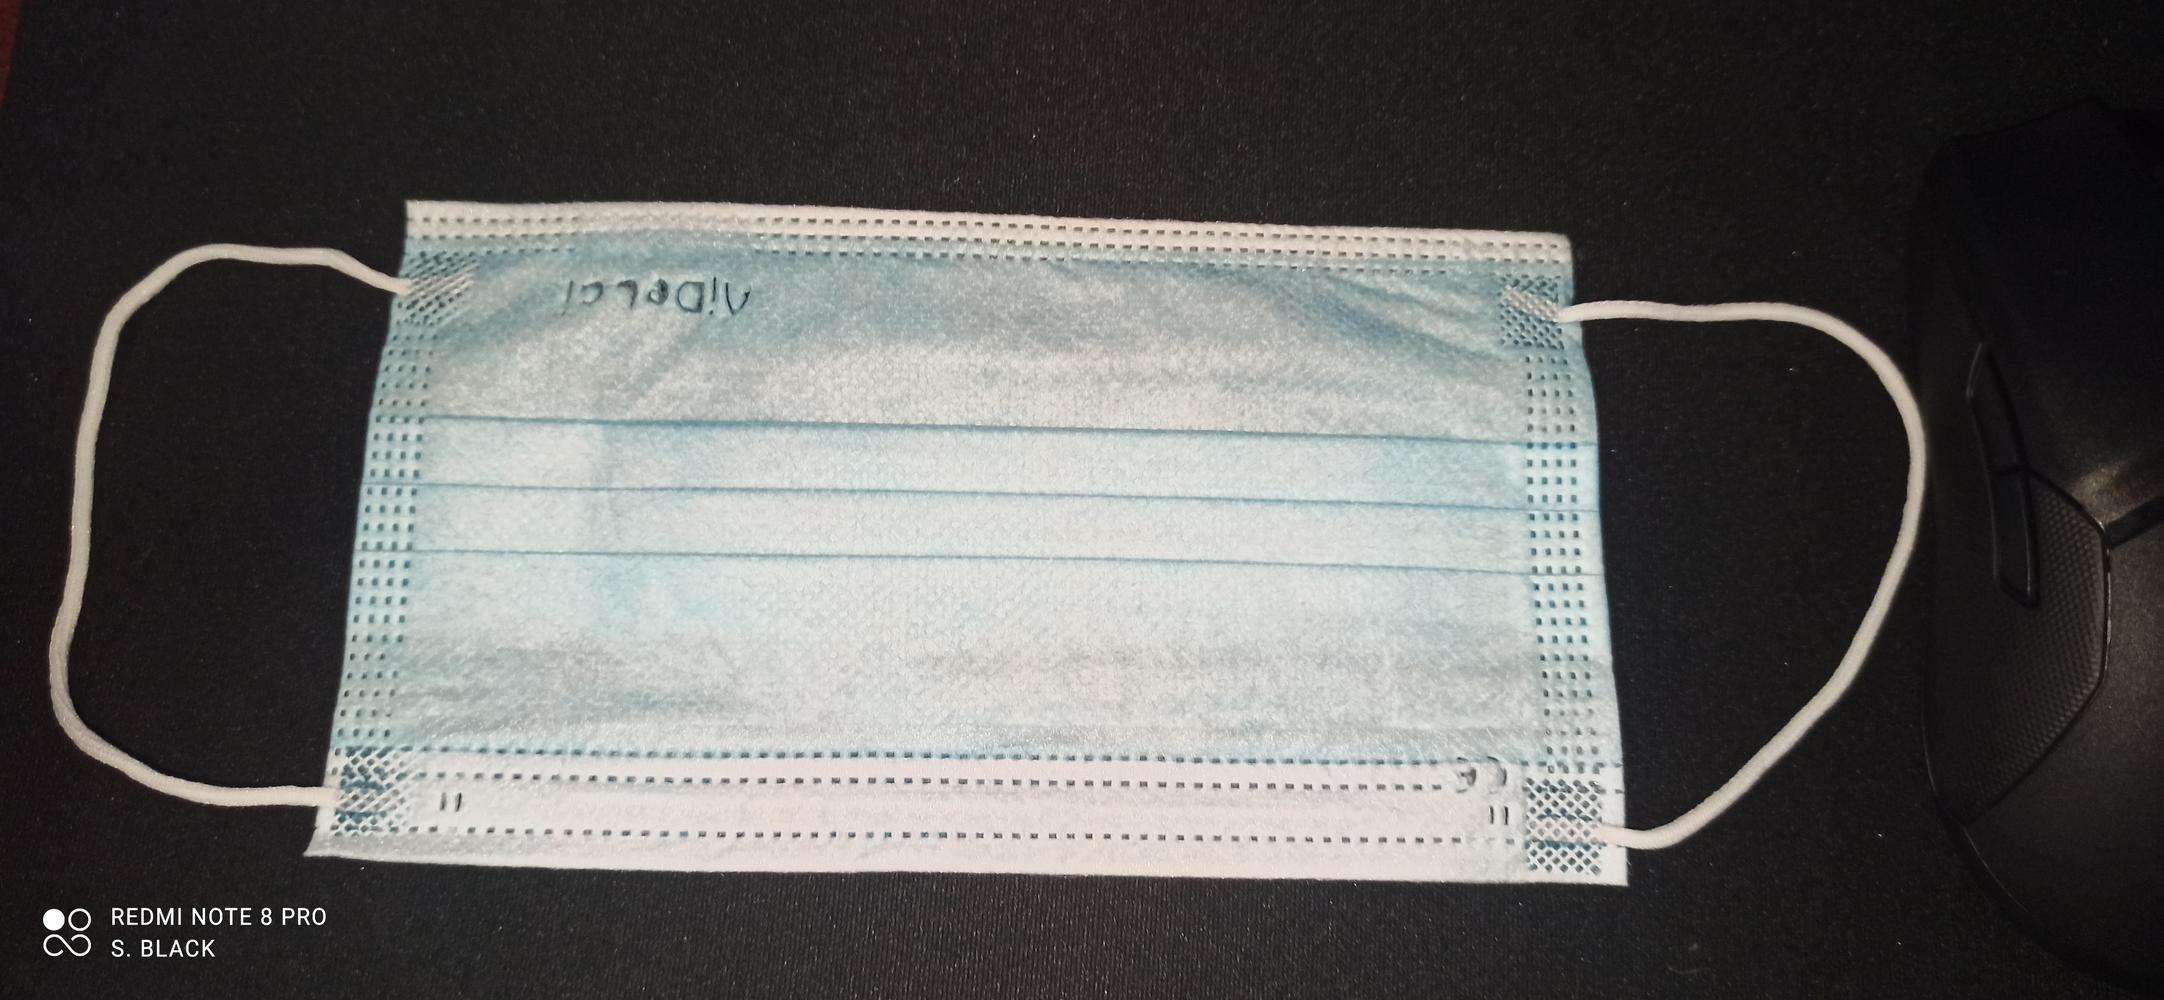Face Mask: (346, 201, 1623, 885)
Undefined Object: (1878, 101, 2152, 933)
